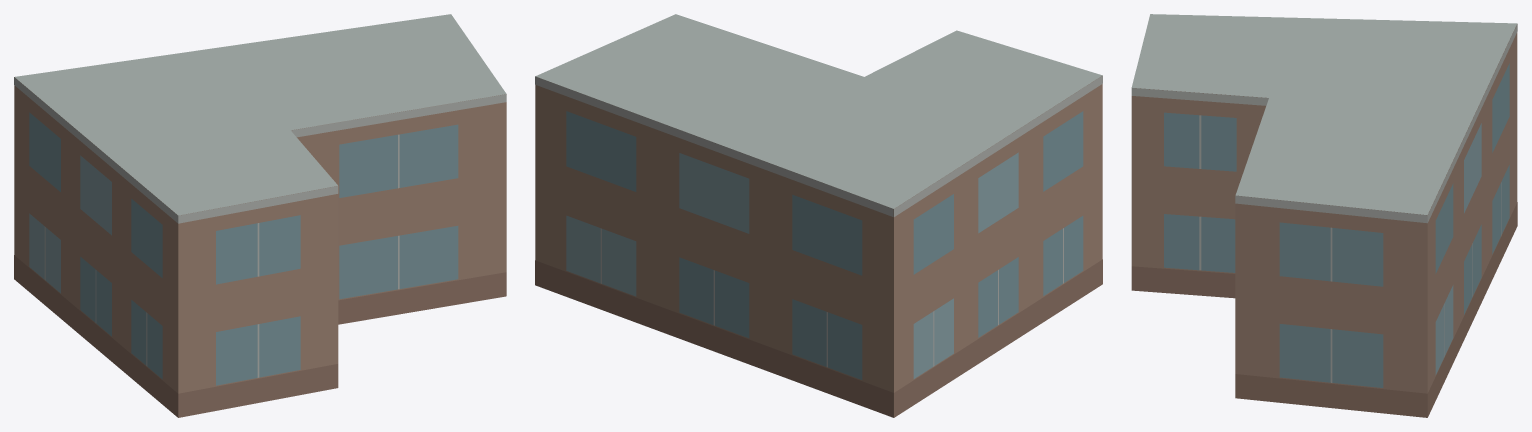
The model's file is survey-upis-32758817.glb.
The picture shows the model from 3 angles, left to right: view 1: azimuth 30°, elevation 25°; view 2: azimuth 150°, elevation 25°; view 3: azimuth 270°, elevation 25°; orthographic projection. The views are drawn at different scales.
Visible parts, largest first — view 1: survey-upis-32758817.tmp; view 2: survey-upis-32758817.tmp; view 3: survey-upis-32758817.tmp.
Part boxes in pixels (x1=…): survey-upis-32758817.tmp: x1=14, y1=14, x2=506, y2=417; survey-upis-32758817.tmp: x1=535, y1=14, x2=1102, y2=417; survey-upis-32758817.tmp: x1=1131, y1=14, x2=1517, y2=417.
Size of the model in its own units: 12.99 by 6.1 by 10.53.
